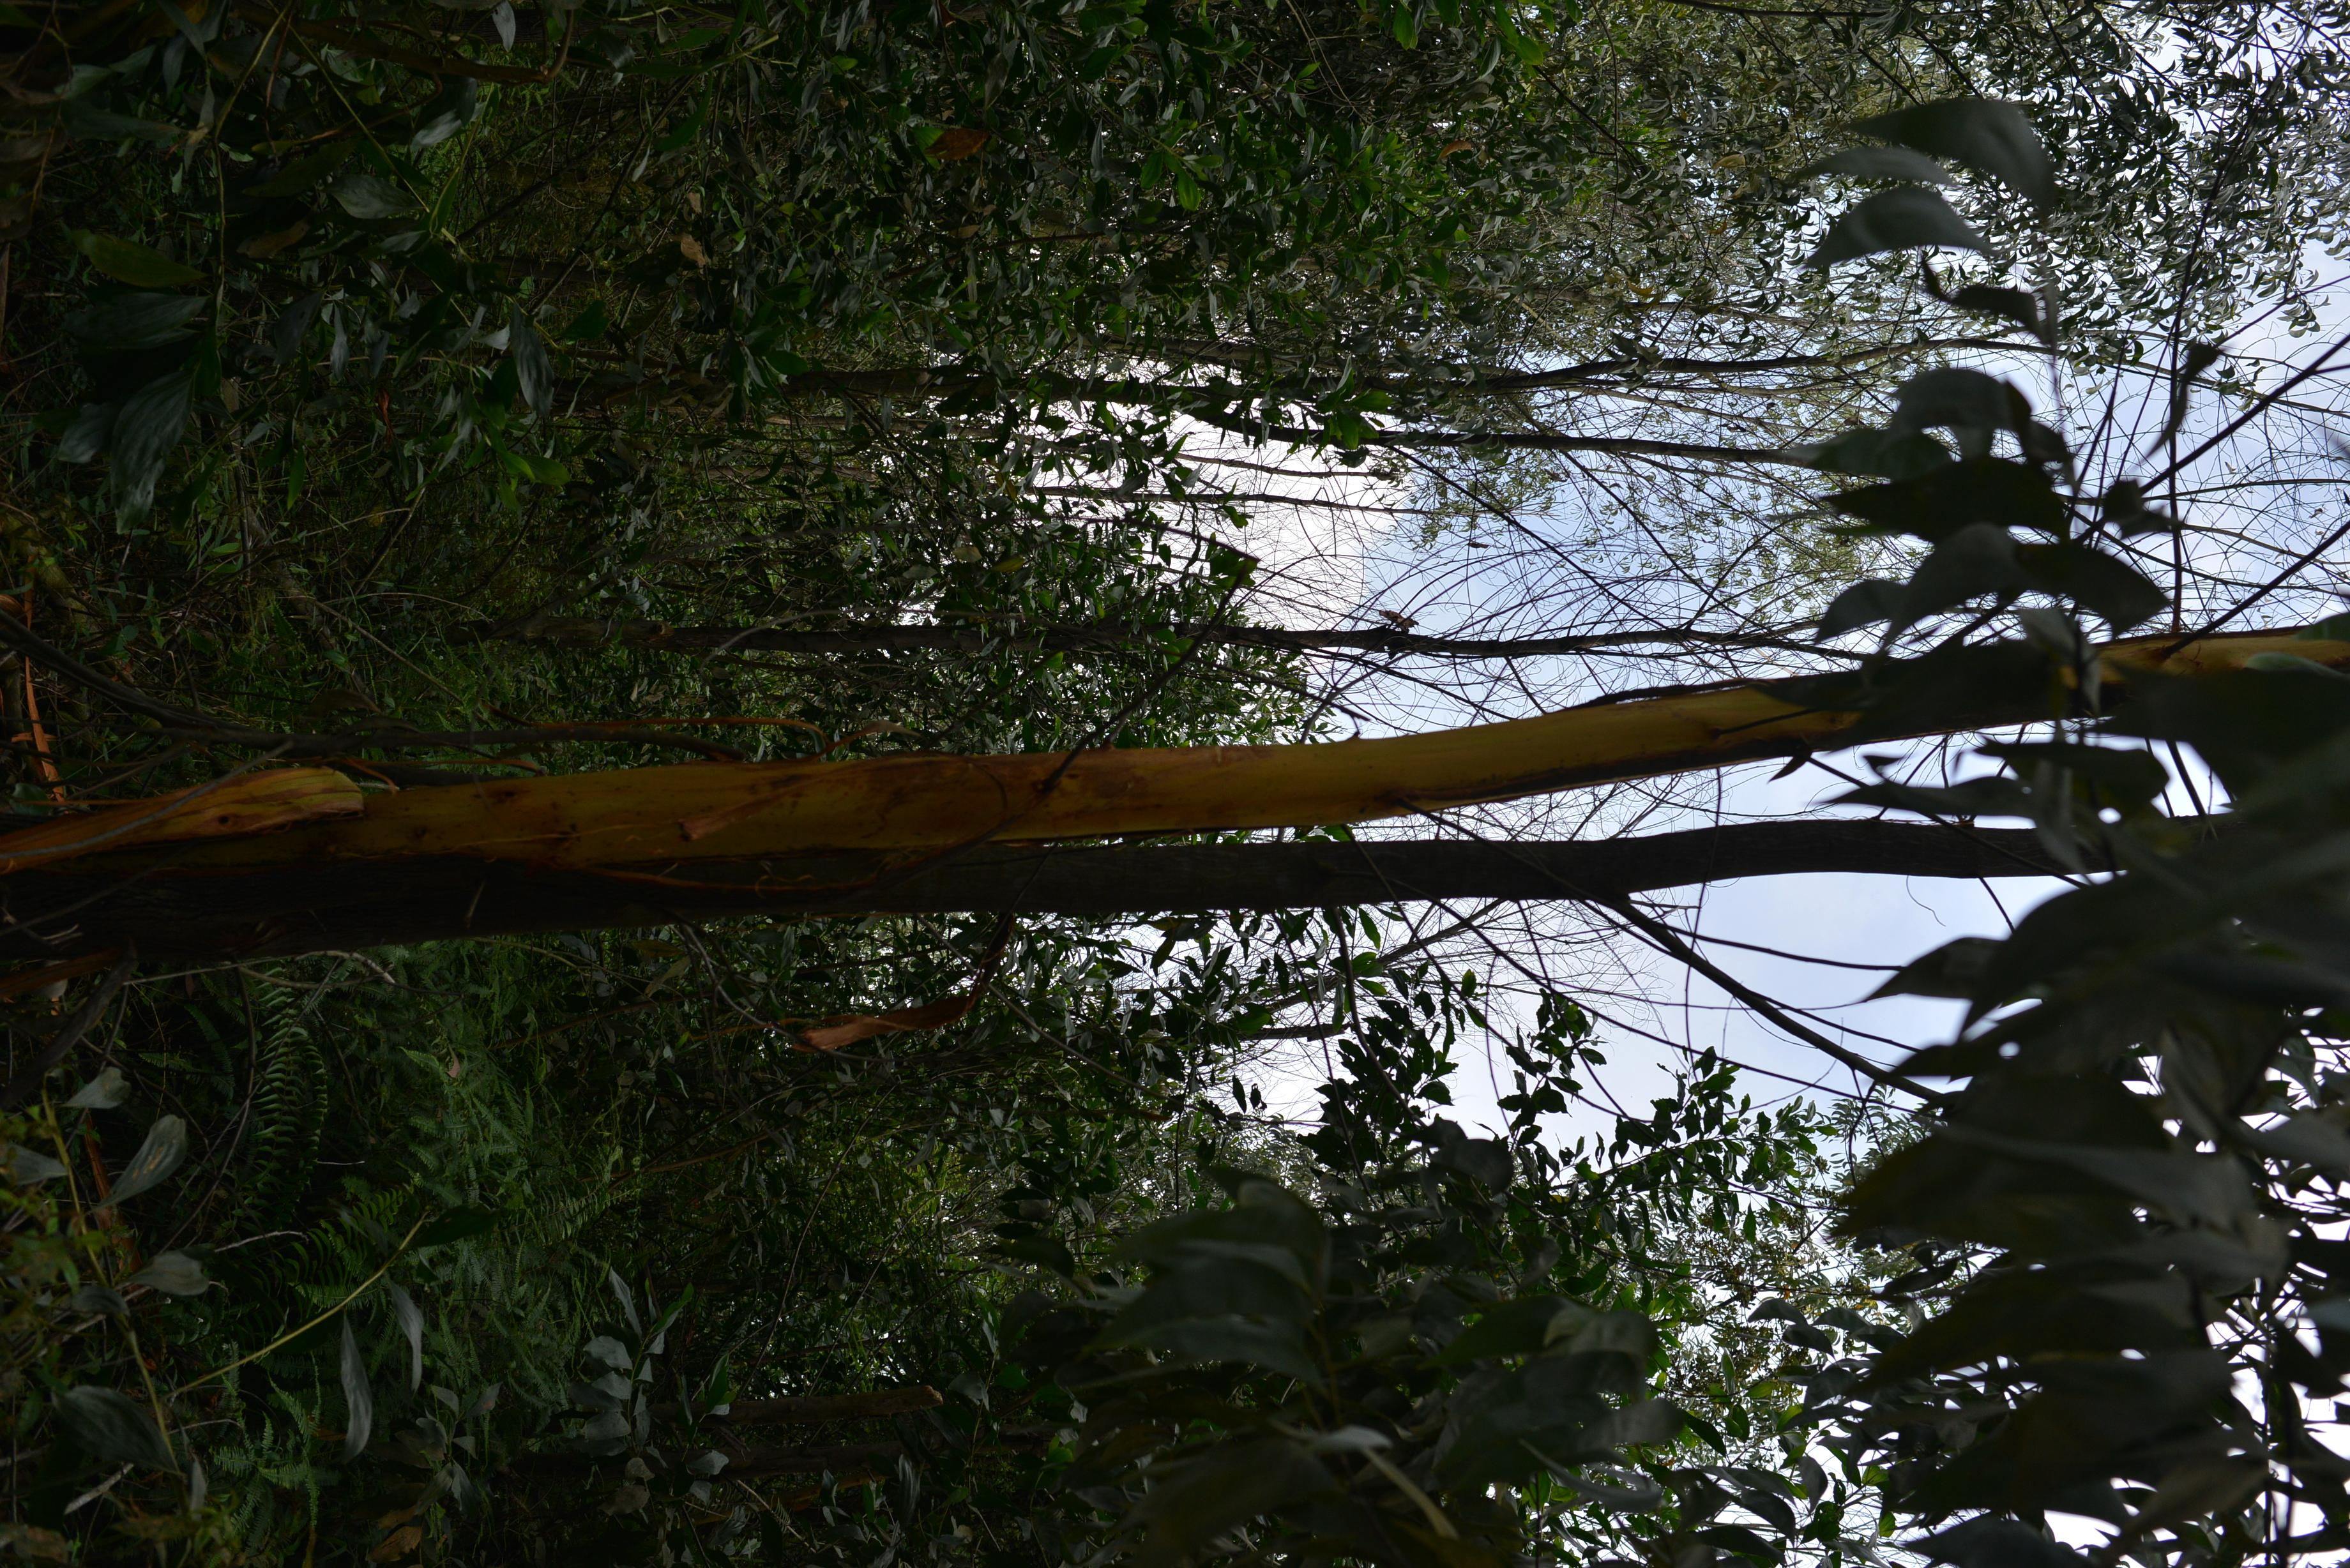Mammals Attack: (0, 630, 2350, 884)
